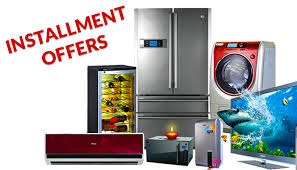AC: (45, 134, 144, 165)
Refrigerator: (136, 9, 208, 120), (87, 67, 135, 132)
